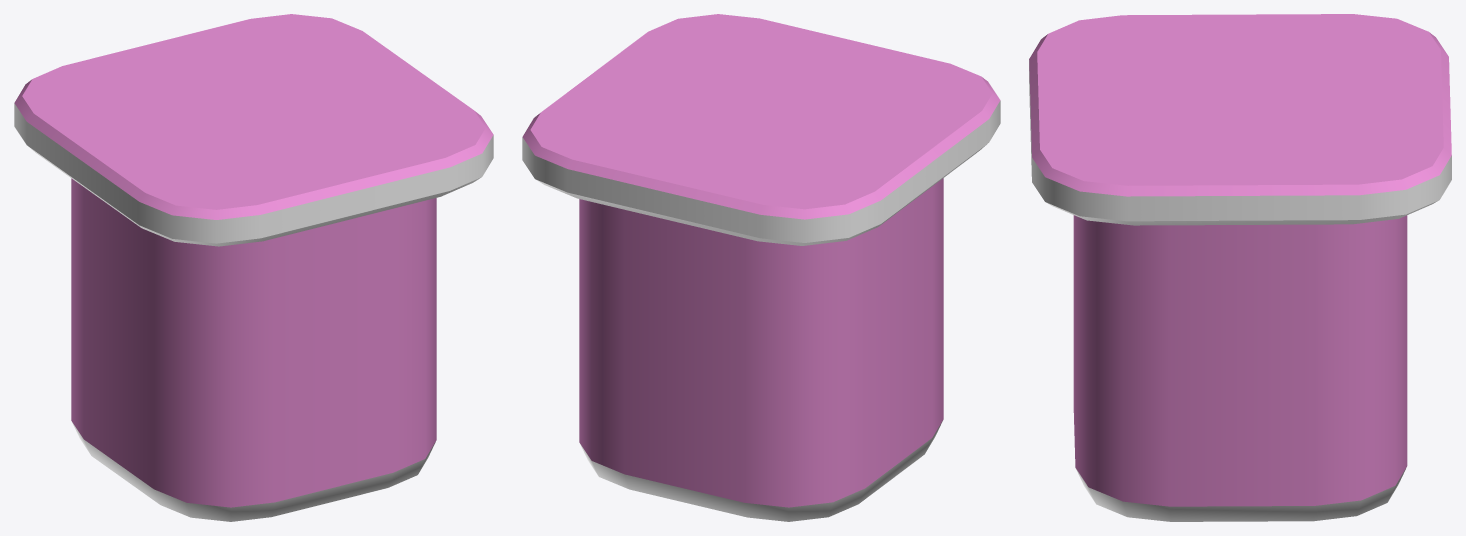
Rendered from Fridgerer_Yogurts.glb.
3 views of the same model, side by side, from view 1: azimuth 30°, elevation 25°; view 2: azimuth 150°, elevation 25°; view 3: azimuth 270°, elevation 25° (orthographic). The views are drawn at different scales.
Visible parts, largest first — view 1: Yogurts; view 2: Yogurts; view 3: Yogurts.
Boxes of the visible parts, <box> form: Yogurts: <box>14,14,493,521</box>; Yogurts: <box>522,14,1000,521</box>; Yogurts: <box>1029,14,1451,521</box>.
Size of the model in its own units: 0.0826 by 0.0783 by 0.0826.
Materials: 2 (1 with a texture image).
